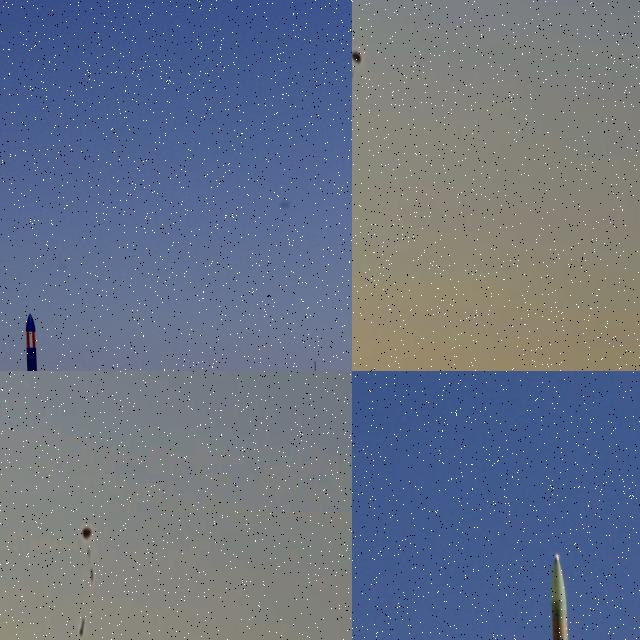Rocket: (541, 553, 583, 640), (21, 312, 46, 371), (79, 617, 85, 636)
